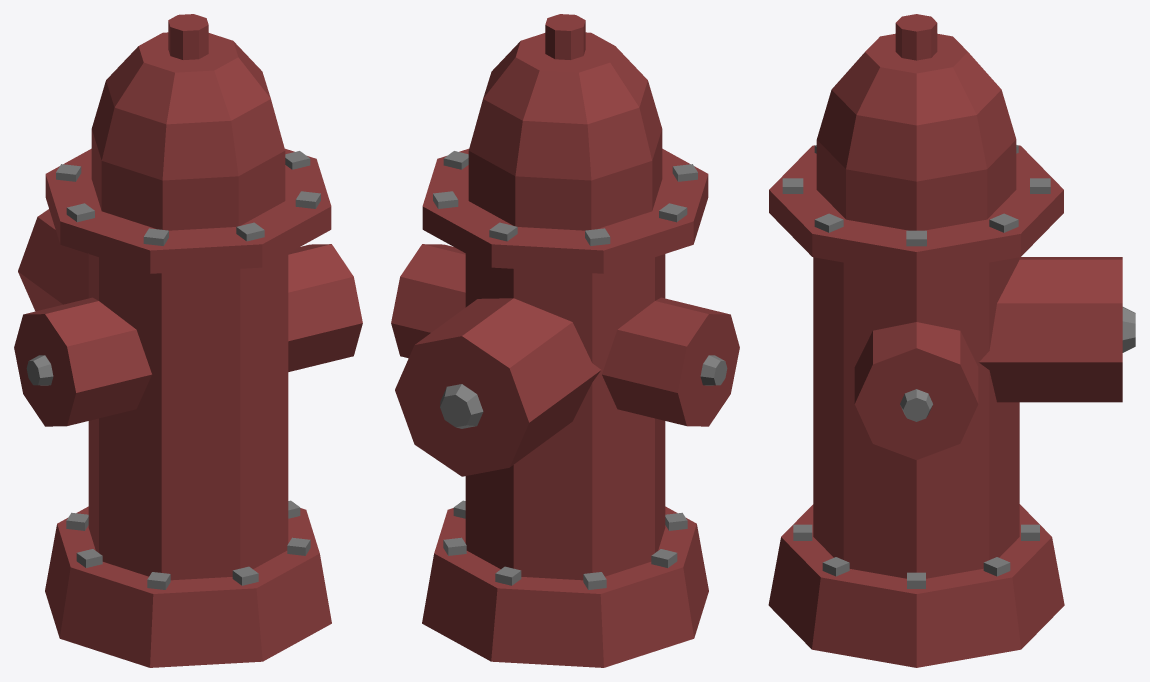
File: Fire_hydrant_01_SkF.fbx
3 renders of one model, left to right at view 1: azimuth 30°, elevation 25°; view 2: azimuth 150°, elevation 25°; view 3: azimuth 270°, elevation 25°, orthographic.
Visible parts, largest first — view 1: File_hydrant_01; view 2: File_hydrant_01; view 3: File_hydrant_01.
Part boxes in pixels (x1,y1,x2,y2): File_hydrant_01: (14, 14, 362, 667); File_hydrant_01: (391, 14, 739, 667); File_hydrant_01: (768, 14, 1135, 667).
Size of the model in its own units: 34.63 by 62.35 by 35.6.
1 material, 1 textured.
